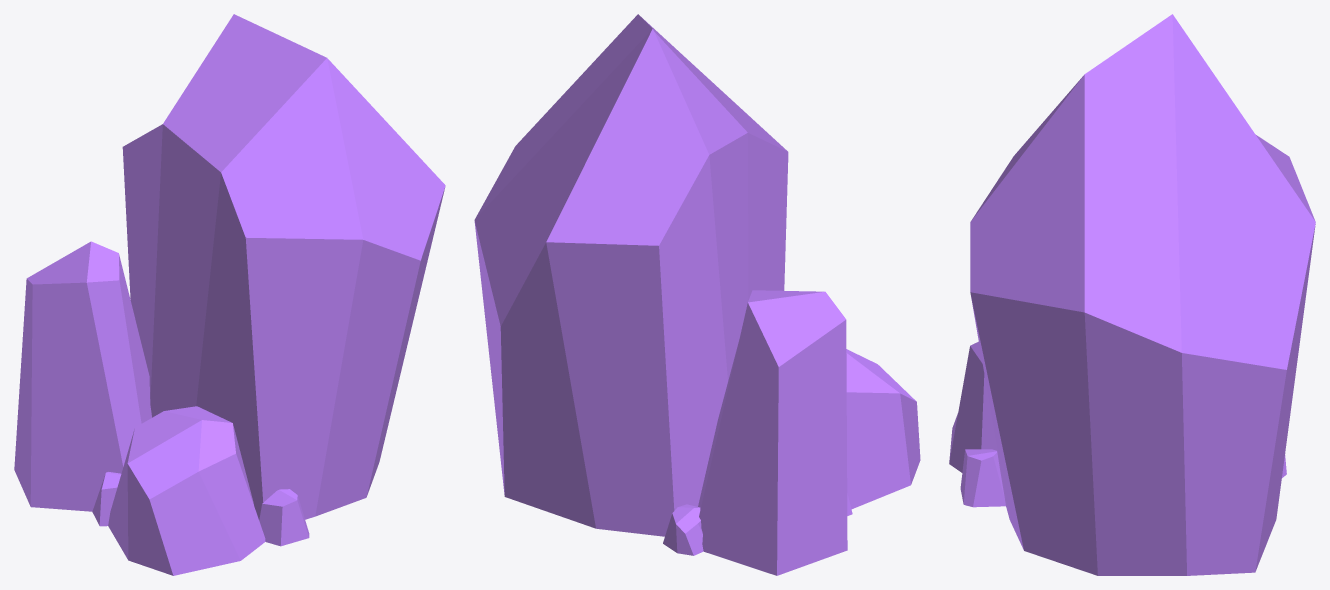
Rendered from crystal.glb.
The picture shows the model from 3 angles, left to right: view 1: azimuth 30°, elevation 25°; view 2: azimuth 150°, elevation 25°; view 3: azimuth 270°, elevation 25°; orthographic projection. The views are drawn at different scales.
Visible parts, largest first — view 1: Cube, Cube.002, Cube.001, Cube.005, Cube.006; view 2: Cube, Cube.002, Cube.001, Cube.003; view 3: Cube, Cube.001, Cube.005.
Boxes of the visible parts, x1,y1,x2,y2 form: Cube: [122, 14, 445, 519]; Cube.002: [14, 241, 151, 511]; Cube.001: [108, 406, 265, 575]; Cube.005: [259, 489, 309, 546]; Cube.006: [92, 472, 121, 526]; Cube: [474, 14, 788, 536]; Cube.002: [698, 290, 847, 575]; Cube.001: [846, 349, 920, 509]; Cube.003: [663, 504, 703, 555]; Cube: [970, 14, 1315, 575]; Cube.001: [949, 341, 996, 472]; Cube.005: [960, 449, 1005, 507].
Size of the model in its own units: 0.264 by 0.3092 by 0.205.
